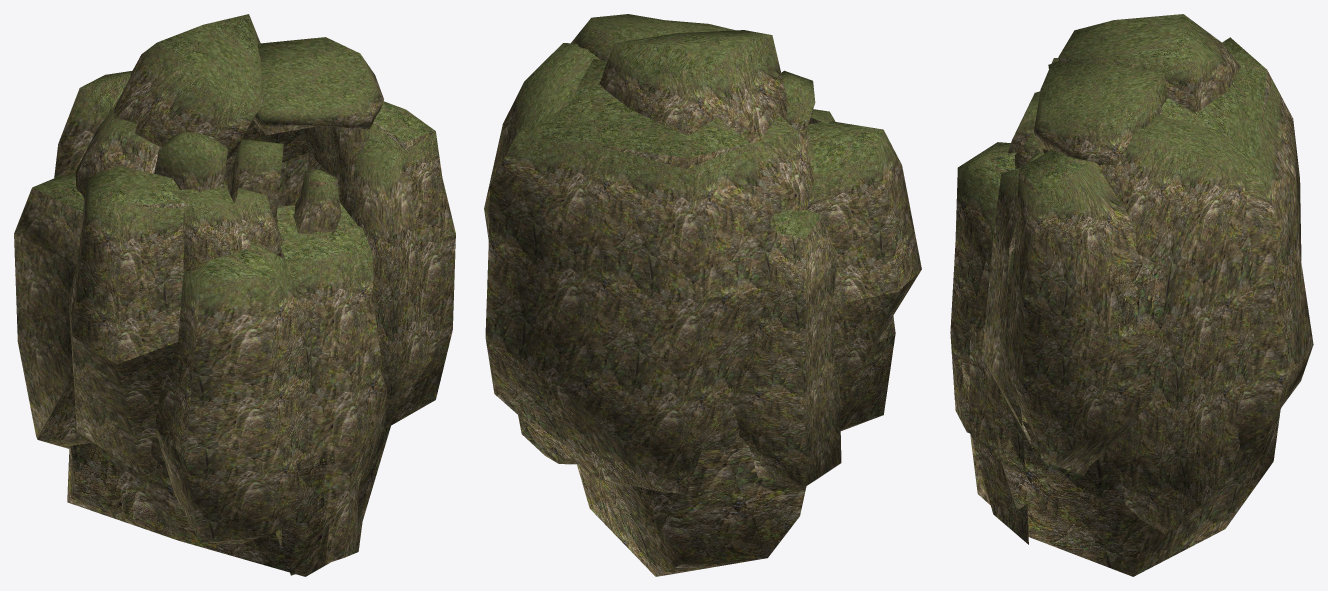
The model's file is poi_all_lair_rancor_dark_large_l2.fbx.
3 renders of one model, left to right at view 1: azimuth 30°, elevation 25°; view 2: azimuth 150°, elevation 25°; view 3: azimuth 270°, elevation 25°, orthographic. The views are drawn at different scales.
Visible parts, largest first — view 1: mesh_node; view 2: mesh_node; view 3: mesh_node.
Part boxes in pixels (<box>): mesh_node: <box>14,14,455,576</box>; mesh_node: <box>484,14,921,576</box>; mesh_node: <box>950,14,1313,576</box>.
Bounding box in the file's own units: 35.06 × 46.8 × 30.84.
